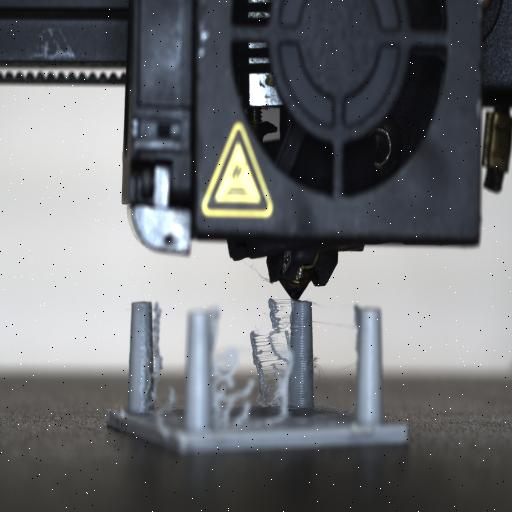stringing: (250, 300, 292, 404), (266, 297, 300, 325), (312, 358, 324, 386)
